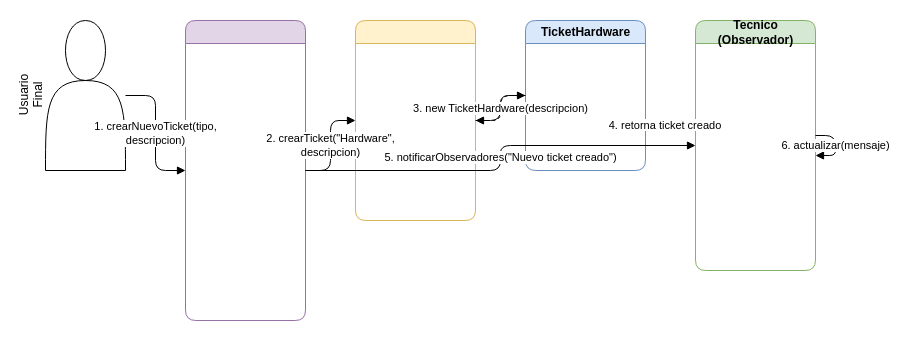
Image size: 906x338. Some labels were removed from this diagram. Here are the shapes that lost their labels. From the top down, the centre of each, then its label:
At point 415,120: "TicketFactory (Factory)".
At point 245,170: "GestorTickets (Singleton)".
